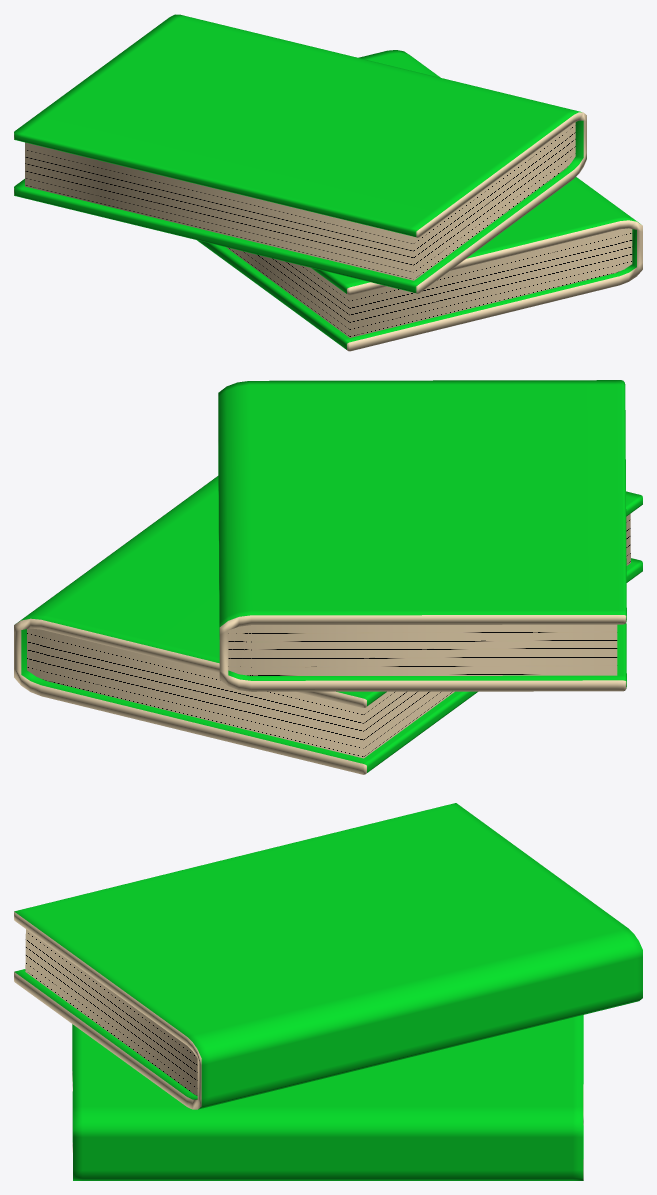
Rendered from books-two-barabara.fbx.
The picture shows the model from 3 angles, top to bottom: view 1: azimuth 30°, elevation 25°; view 2: azimuth 150°, elevation 25°; view 3: azimuth 270°, elevation 25°; orthographic projection. The views are drawn at different scales.
Visible parts, largest first — view 1: books_green; view 2: books_green; view 3: books_green.
Part boxes in pixels (<box>): books_green: <box>14,14,642,351</box>; books_green: <box>14,380,642,774</box>; books_green: <box>14,803,642,1180</box>.
Bounding box in the file's own units: 13.39 × 3.66 × 14.53.
Materials: 1 (1 with a texture image).
